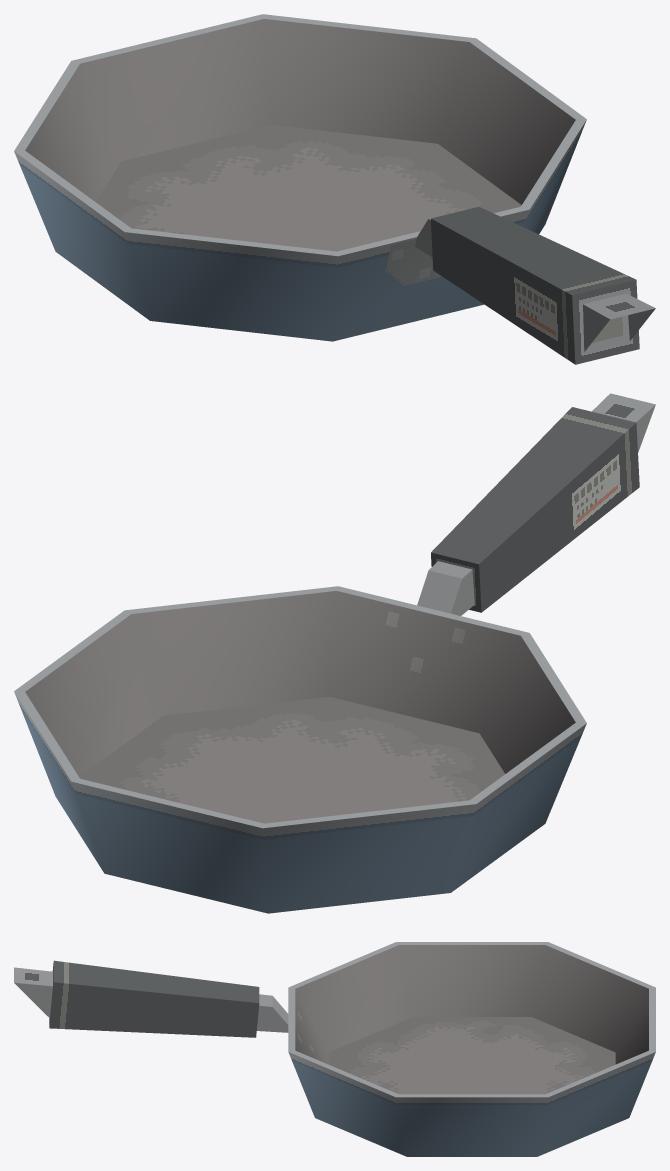
Rendered from 01cd_Frying_Pan.glb.
The picture shows the model from 3 angles, top to bottom: view 1: azimuth 30°, elevation 25°; view 2: azimuth 150°, elevation 25°; view 3: azimuth 270°, elevation 25°; orthographic projection. The views are drawn at different scales.
Visible parts, largest first — view 1: part_0; view 2: part_0; view 3: part_0.
Part boxes in pixels (x1,y1,x2,y2): part_0: (14,14,655,364); part_0: (14,393,655,913); part_0: (14,942,655,1156).
Bounding box in the file's own units: 0.3259 × 0.1165 × 0.5692.
Materials: 1 (1 with a texture image).
